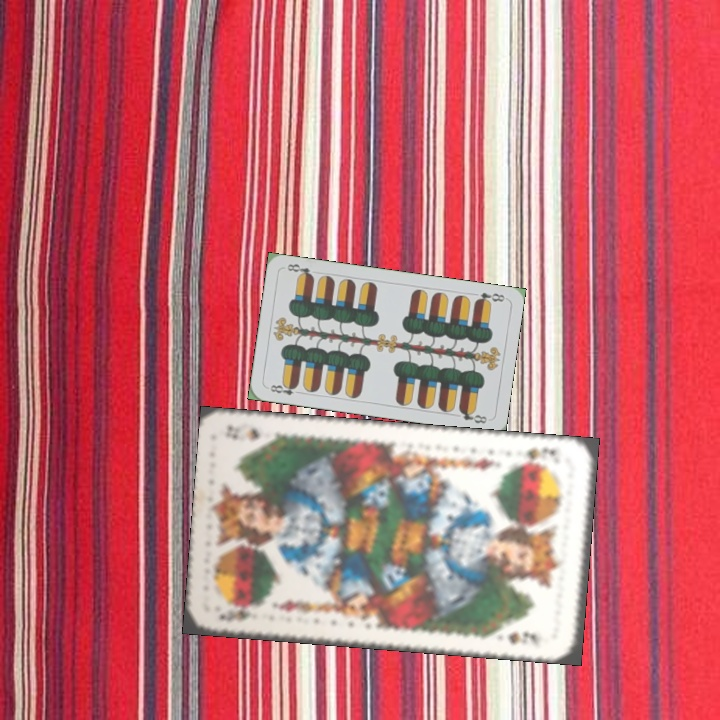E8: (266, 379, 304, 398), (471, 288, 507, 307)
SK: (512, 442, 559, 468), (215, 602, 252, 625)
